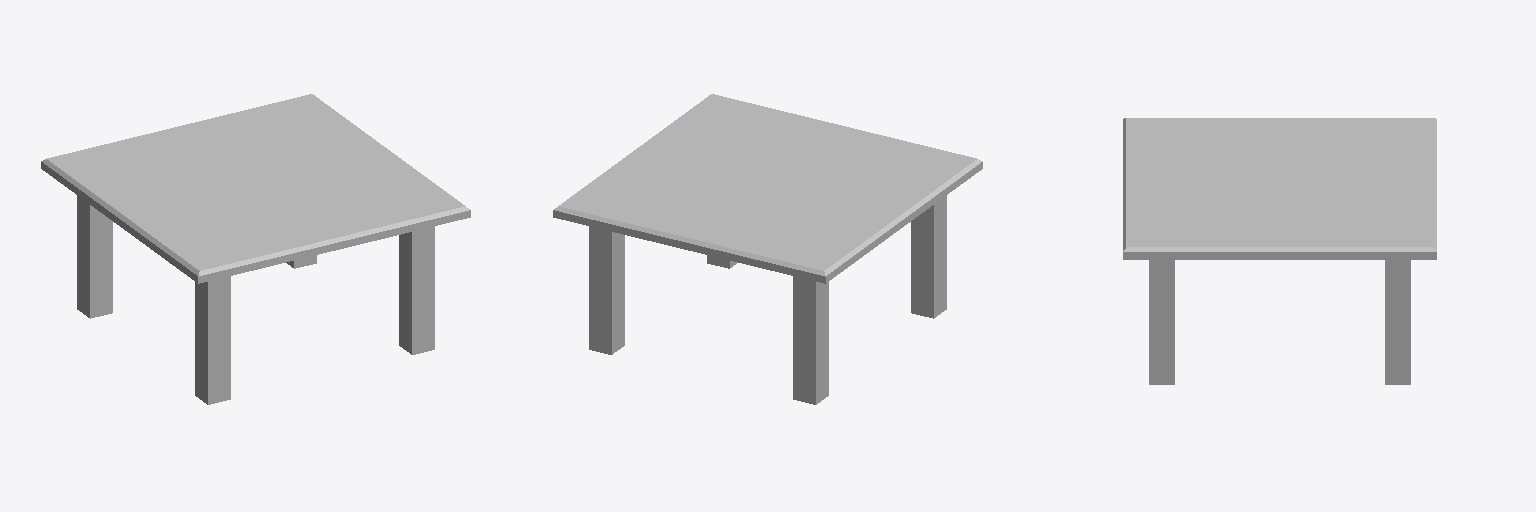
Rendered from Table.obj.
The picture shows the model from 3 angles: view 1: azimuth 30°, elevation 25°; view 2: azimuth 150°, elevation 25°; view 3: azimuth 270°, elevation 25°; orthographic projection.
Visible parts, largest first — view 1: Table_Cube.011; view 2: Table_Cube.011; view 3: Table_Cube.011.
Part boxes in pixels (bbox=[...]): Table_Cube.011: bbox=[41, 94, 470, 404]; Table_Cube.011: bbox=[553, 94, 982, 404]; Table_Cube.011: bbox=[1123, 118, 1436, 384].
Size of the model in its own units: 0.8 by 0.4127 by 0.8.